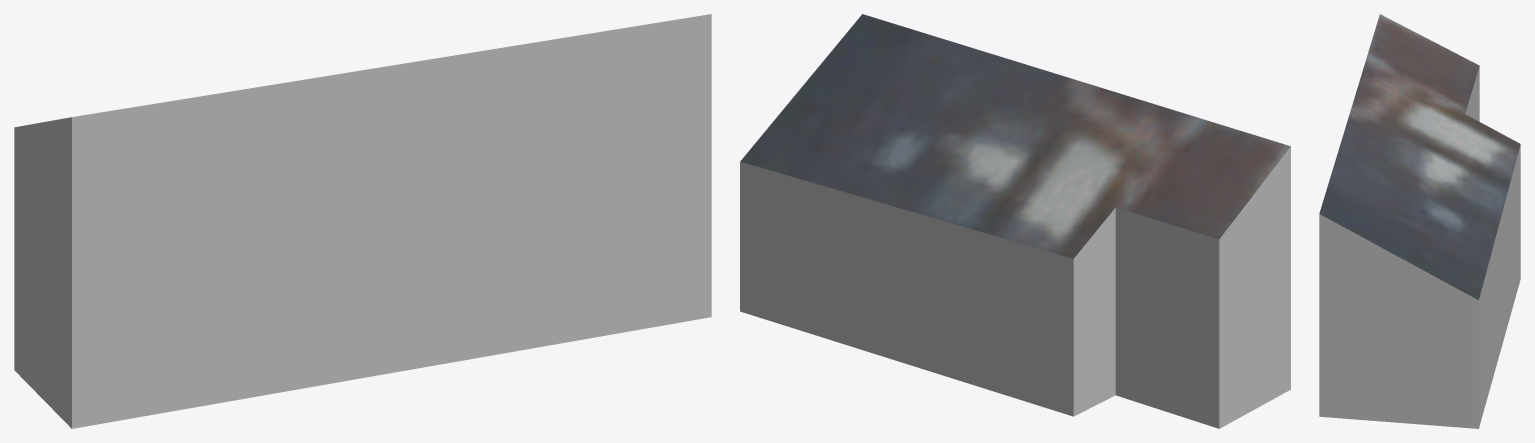
File: DEBW_0010007Tx53.gltf
The picture shows the model from 3 angles, left to right: view 1: azimuth 30°, elevation 25°; view 2: azimuth 150°, elevation 25°; view 3: azimuth 270°, elevation 25°; orthographic projection. The views are drawn at different scales.
Visible parts, largest first — view 1: Z_UP; view 2: Z_UP; view 3: Z_UP.
Part boxes in pixels (bbox=[...]): Z_UP: bbox=[14, 14, 711, 428]; Z_UP: bbox=[740, 14, 1290, 428]; Z_UP: bbox=[1319, 14, 1520, 428].
Bounding box in the file's own units: 16.34 × 7.71 × 6.74.
2 materials, 1 textured.
